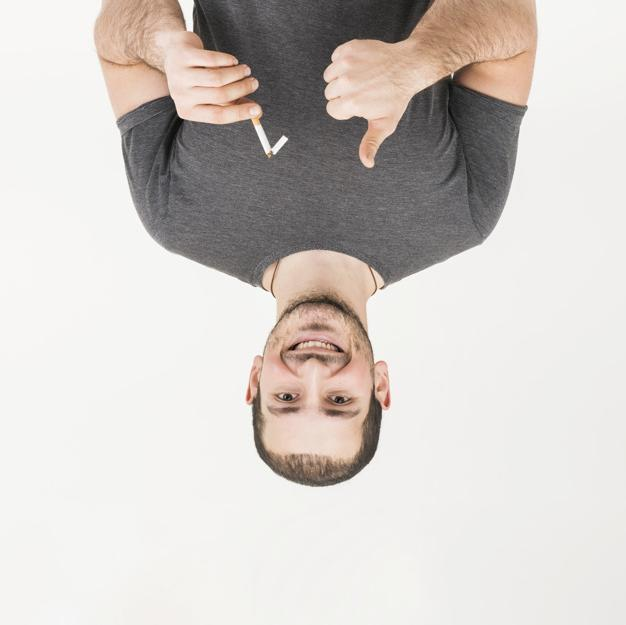thumbsdown: (323, 40, 387, 169)
